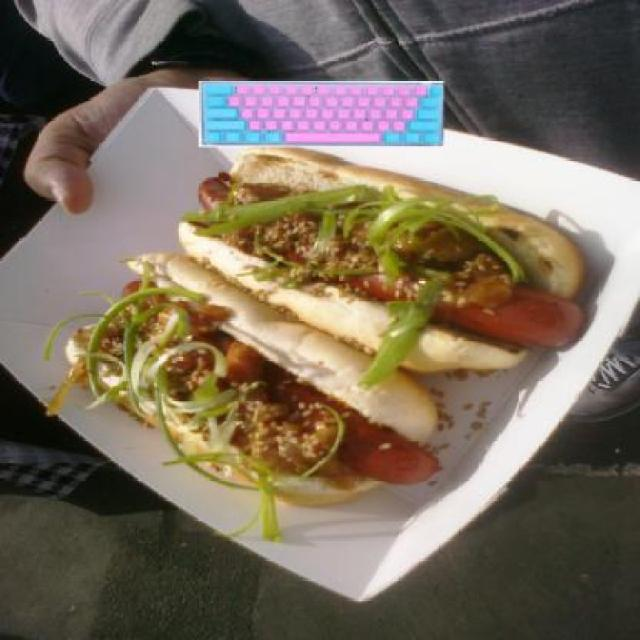keyboard: (195, 72, 449, 142)
